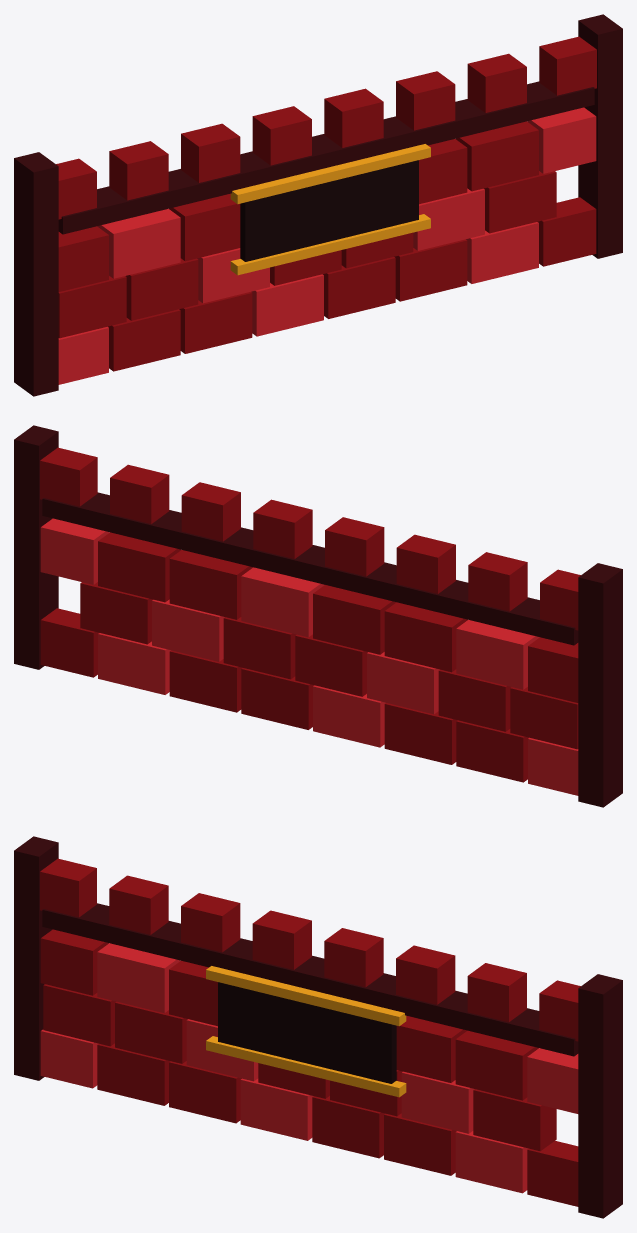
The model's file is toll_wall.glb.
3 renders of one model, top to bottom at view 1: azimuth 30°, elevation 25°; view 2: azimuth 150°, elevation 25°; view 3: azimuth 330°, elevation 25°, orthographic.
Visible parts, largest first — view 1: TollWall2; view 2: TollWall2; view 3: TollWall2.
Part boxes in pixels (x1,y1,x2,y2): TollWall2: [14, 14, 622, 396]; TollWall2: [14, 425, 622, 807]; TollWall2: [14, 836, 622, 1218].
Size of the model in its own units: 7.98 by 2.9 by 0.61.
